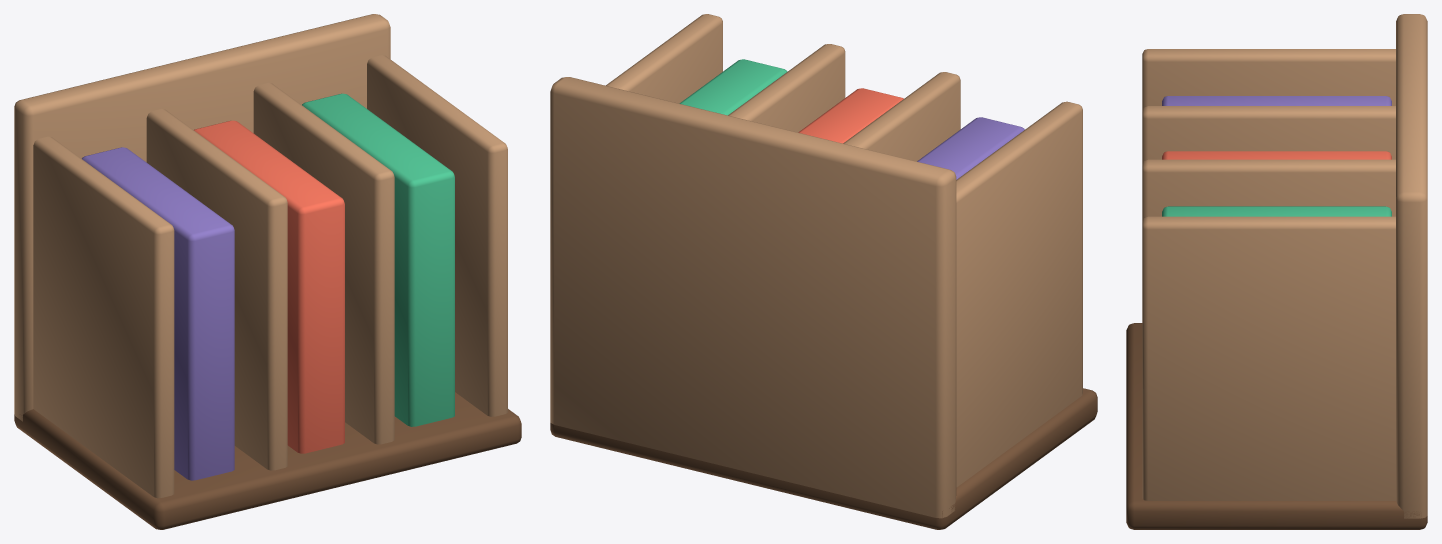
Rendered from Doc_DocumentArchive.fbx.
The picture shows the model from 3 angles, left to right: view 1: azimuth 30°, elevation 25°; view 2: azimuth 150°, elevation 25°; view 3: azimuth 270°, elevation 25°; orthographic projection. The views are drawn at different scales.
Parts seen in each view (by area): view 1: Archive_Divider_-50, Archive_BackWall, Archive_Divider_-16, Archive_Divider_50, Archive_Base, Archive_Divider_16, Archived_Folder_1, Archived_Folder_3, Archived_Folder_2; view 2: Archive_BackWall, Archive_Divider_-50, Archive_Base, Archive_Divider_-16, Archive_Divider_50, Archive_Divider_16, Archived_Folder_1, Archived_Folder_3, Archived_Folder_2; view 3: Archive_Divider_50, Archive_BackWall, Archive_Divider_16, Archive_Divider_-50, Archive_Divider_-16, Archive_Base, Archived_Folder_3, Archived_Folder_1, Archived_Folder_2.
Boxes of the visible parts, box(x1,y1,x2,y2) form: Archive_Divider_-50: box(33, 136, 174, 498); Archive_BackWall: box(14, 14, 390, 421); Archive_Divider_-16: box(146, 109, 287, 470); Archive_Divider_50: box(367, 55, 507, 416); Archive_Base: box(14, 392, 521, 529); Archive_Divider_16: box(253, 82, 394, 444); Archived_Folder_1: box(82, 147, 234, 480); Archived_Folder_3: box(302, 93, 454, 426); Archived_Folder_2: box(194, 120, 344, 453); Archive_BackWall: box(550, 77, 956, 518); Archive_Divider_-50: box(956, 101, 1082, 487); Archive_Base: box(550, 388, 1097, 529); Archive_Divider_-16: box(843, 72, 960, 161); Archive_Divider_50: box(606, 14, 722, 103); Archive_Divider_16: box(728, 44, 845, 132); Archived_Folder_1: box(917, 117, 1024, 179); Archived_Folder_3: box(679, 59, 787, 115); Archived_Folder_2: box(798, 88, 903, 143); Archive_Divider_50: box(1142, 216, 1395, 500); Archive_BackWall: box(1396, 14, 1427, 518); Archive_Divider_16: box(1142, 159, 1395, 220); Archive_Divider_-50: box(1142, 49, 1395, 110); Archive_Divider_-16: box(1142, 106, 1395, 163); Archive_Base: box(1126, 323, 1427, 529); Archived_Folder_3: box(1162, 206, 1391, 216); Archived_Folder_1: box(1162, 96, 1391, 105); Archived_Folder_2: box(1162, 151, 1391, 159).
Bounding box in the file's own units: 11 × 9.4 × 7.6.
